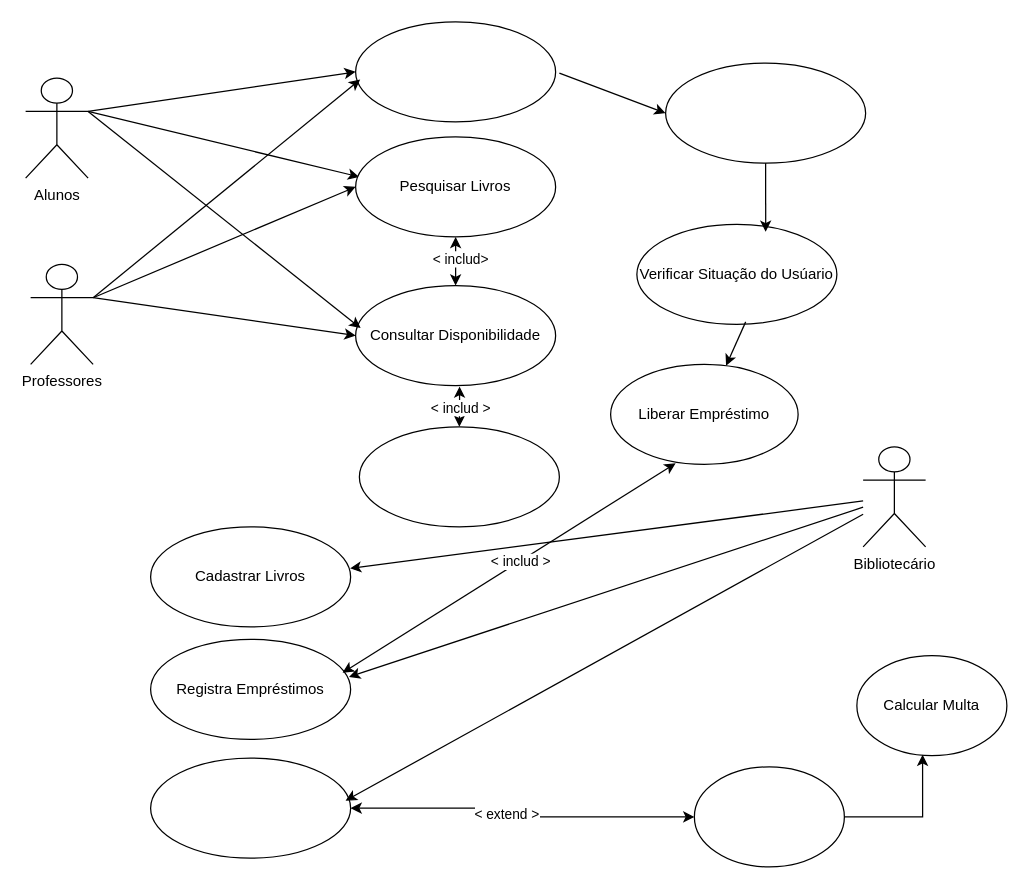
This 1029x889 diagram has some shape labels left out. The centre of each missing label's shape, as x and y in pixels:
Atraso na Devolução: point 768,816
Disponibilidade do Exemplar: point 765,112
Recebe Devoluções: point 250,807
Reservar Exemplares: point 458,476
Solicitar Empréstimos: point 455,71
